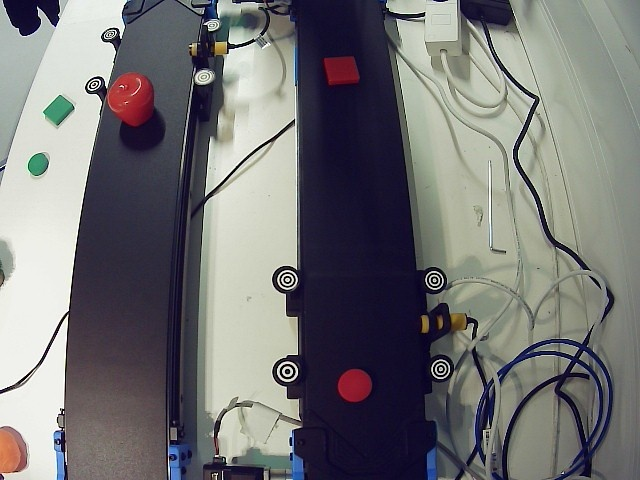Red_Circle: (338, 368, 375, 405)
Red_Square: (324, 52, 361, 89)
Unknown: (106, 72, 156, 126)
